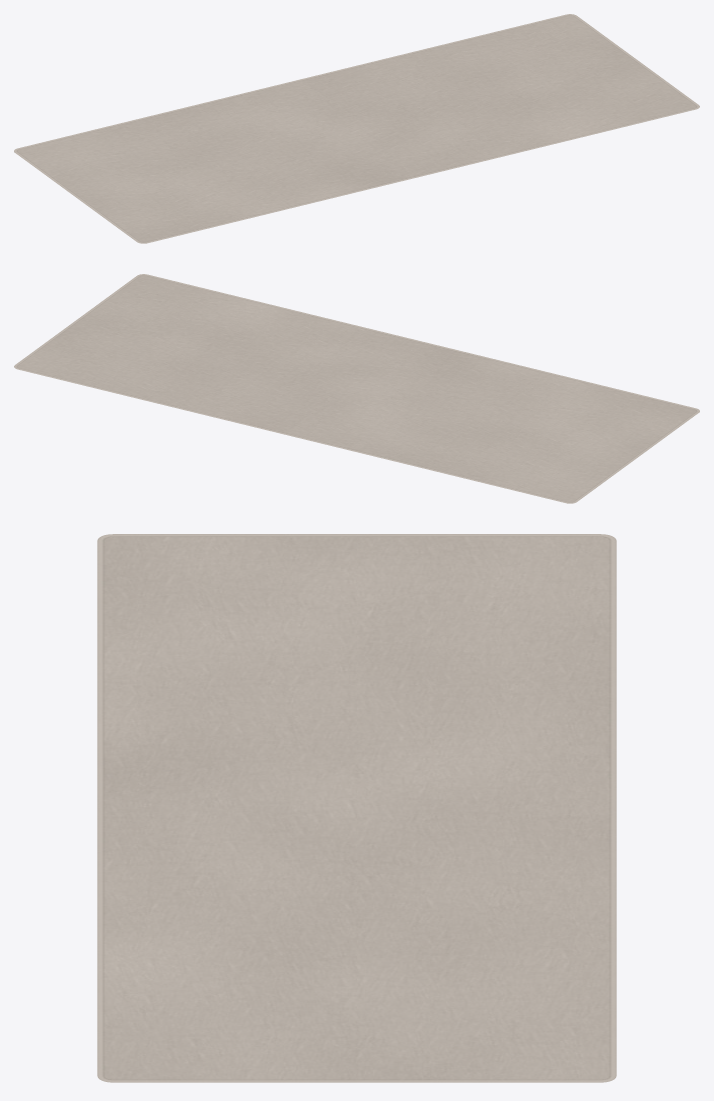
Rendered from beige_hall_r90.glb.
3 views of the same model, one above another, from view 1: azimuth 30°, elevation 25°; view 2: azimuth 150°, elevation 25°; view 3: azimuth 270°, elevation 25° (orthographic). The views are drawn at different scales.
Visible parts, largest first — view 1: reliv_beige_hall_r90; view 2: reliv_beige_hall_r90; view 3: reliv_beige_hall_r90.
Part boxes in pixels (bbox=[...]): reliv_beige_hall_r90: bbox=[14, 14, 699, 243]; reliv_beige_hall_r90: bbox=[14, 274, 699, 503]; reliv_beige_hall_r90: bbox=[97, 534, 616, 1082].
Bounding box in the file's own units: 2.5 × 0.009 × 1.
2 materials, 1 textured.
